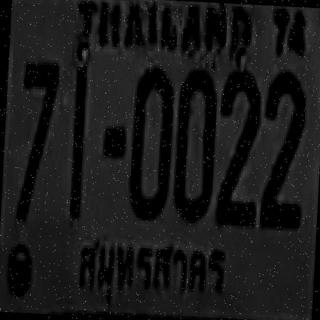N00: (127, 66, 174, 218), (172, 68, 217, 220)
N02: (260, 70, 308, 211), (216, 69, 262, 210), (215, 93, 261, 224), (216, 69, 262, 199), (259, 101, 306, 226)
N07: (15, 59, 58, 220), (16, 60, 59, 209)
P58: (67, 230, 235, 314)
